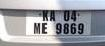0: (63, 10, 70, 22)
4: (71, 9, 78, 22)
6: (70, 22, 77, 34)
8: (63, 22, 70, 34)
9: (77, 22, 85, 35), (55, 22, 62, 34)
A: (49, 9, 57, 21)
E: (41, 22, 49, 35)
K: (42, 10, 49, 21)
M: (33, 22, 41, 34)
